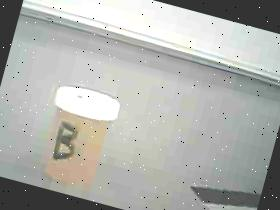Bottle B: (27, 76, 131, 199)
